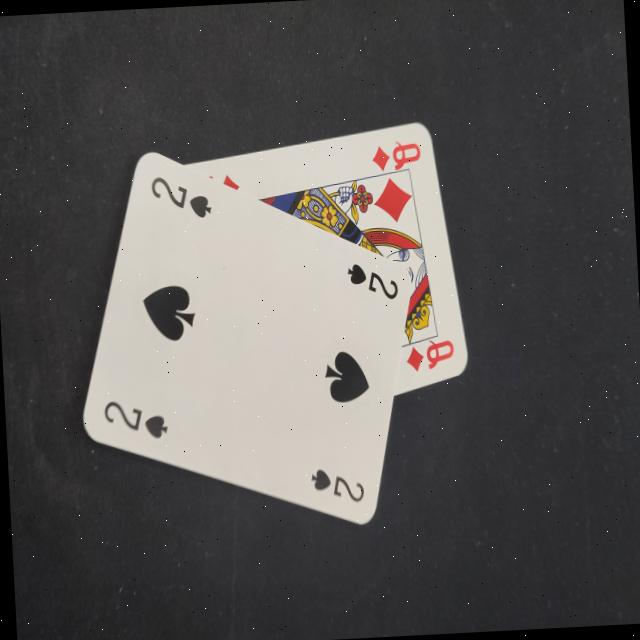2s: (141, 166, 216, 222), (99, 391, 172, 446), (304, 459, 368, 514), (341, 259, 404, 310)
Qd: (398, 332, 458, 383), (368, 133, 424, 178)
